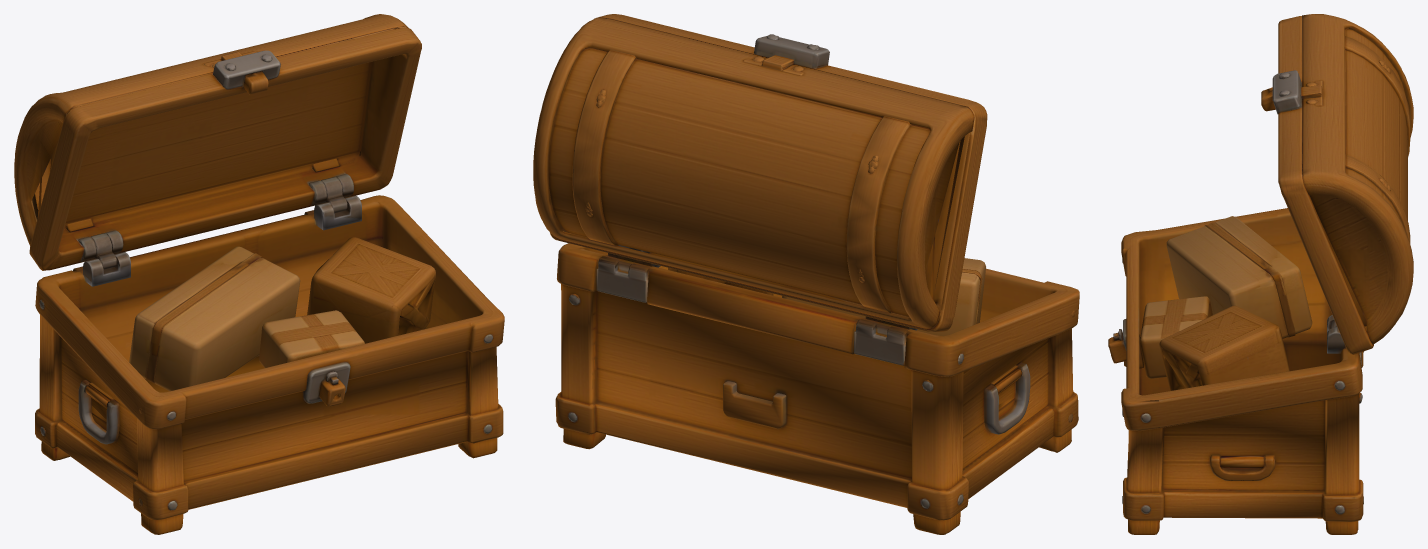
File: treasure_chest.fbx
The picture shows the model from 3 angles, left to right: view 1: azimuth 30°, elevation 25°; view 2: azimuth 150°, elevation 25°; view 3: azimuth 270°, elevation 25°; orthographic projection. The views are drawn at different scales.
Parts seen in each view (by area): view 1: tripo_node_845d0e55; view 2: tripo_node_845d0e55; view 3: tripo_node_845d0e55.
Part boxes in pixels (x1,y1,x2,y2): tripo_node_845d0e55: (14, 14, 504, 534); tripo_node_845d0e55: (533, 14, 1079, 534); tripo_node_845d0e55: (1108, 14, 1413, 534).
Bounding box in the file's own units: 0.9863 × 0.9902 × 0.7363.
